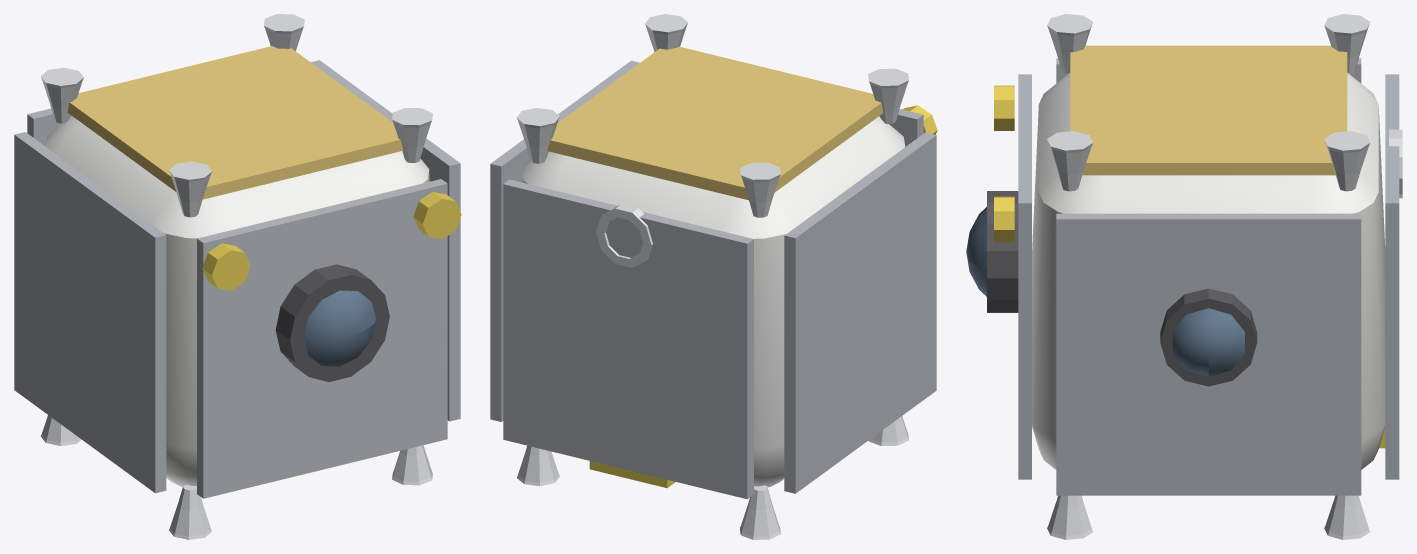
File: orbital-station-and-docking-bays-inspection-drone-ffe5fada__24567.glb
3 views of the same model, side by side, from view 1: azimuth 30°, elevation 25°; view 2: azimuth 150°, elevation 25°; view 3: azimuth 270°, elevation 25° (orthographic). The views are drawn at different scales.
Parts seen in each view (by area): view 1: inspection-drone; view 2: inspection-drone; view 3: inspection-drone.
Boxes of the visible parts, x1,y1,x2,y2 form: inspection-drone: (14,14,461,539); inspection-drone: (490,14,937,539); inspection-drone: (966,14,1402,539).
Size of the model in its own units: 0.615 by 0.62 by 0.63.
